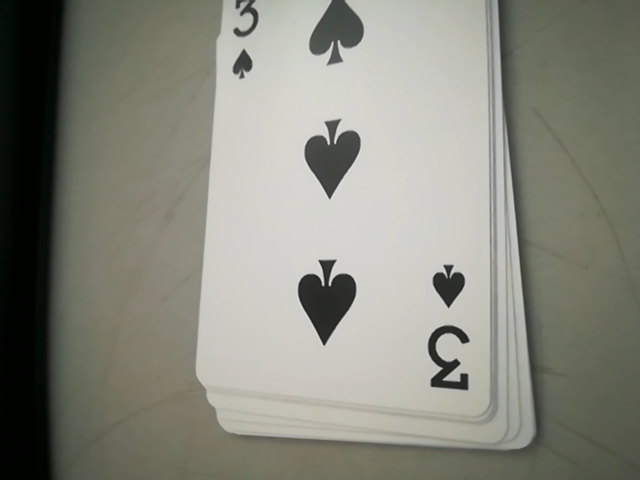ht 3: (420, 264, 477, 393)
